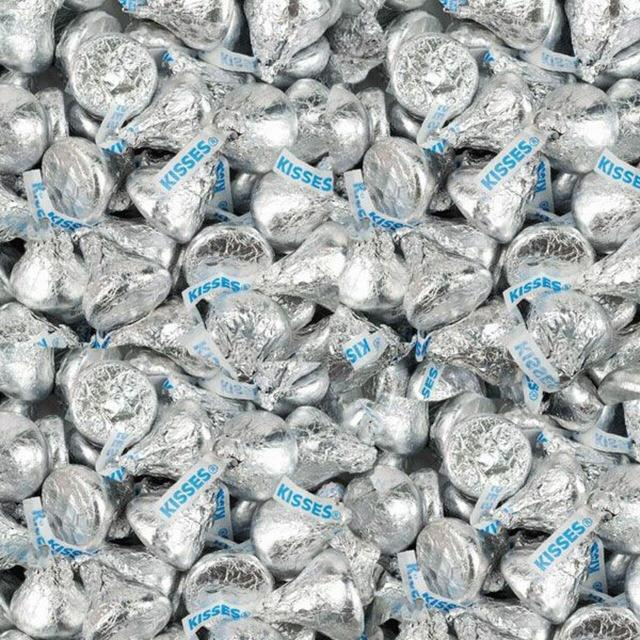kisses: (363, 188, 486, 336), (46, 199, 168, 343), (429, 109, 562, 241), (482, 488, 612, 623), (123, 440, 250, 570), (128, 133, 249, 251), (260, 452, 365, 586), (498, 288, 620, 397)
